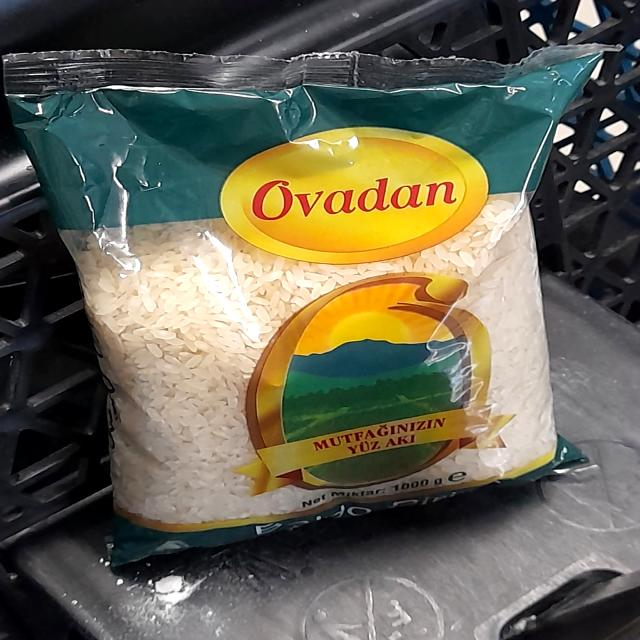rice: (57, 80, 575, 521)
